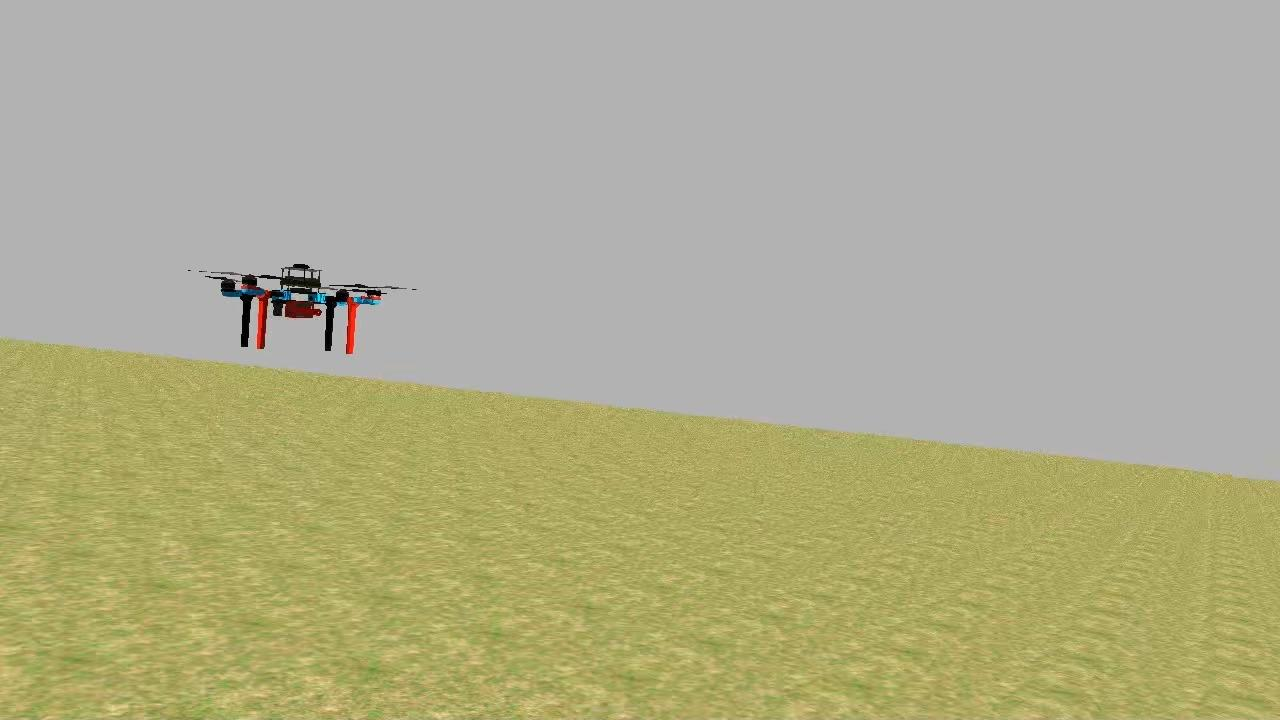UAV: (210, 254, 390, 356)
